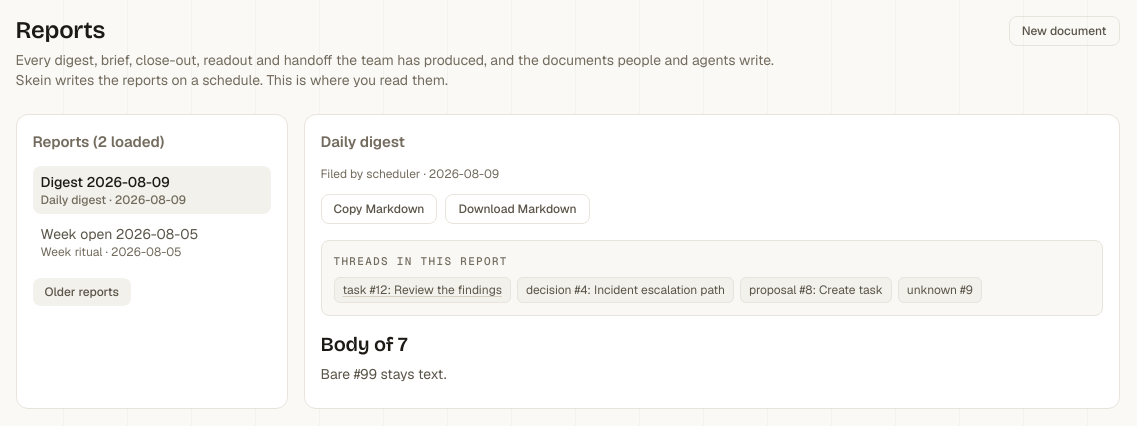
Test case: the Reports page › appends older reports without changing the open report or URL
This screenshot has width=1137, height=426.
Expected: the text "Body of 7" is shown, [320,332,408,356]
Click the button "Older reports": (82, 292) [32,278,131,306]
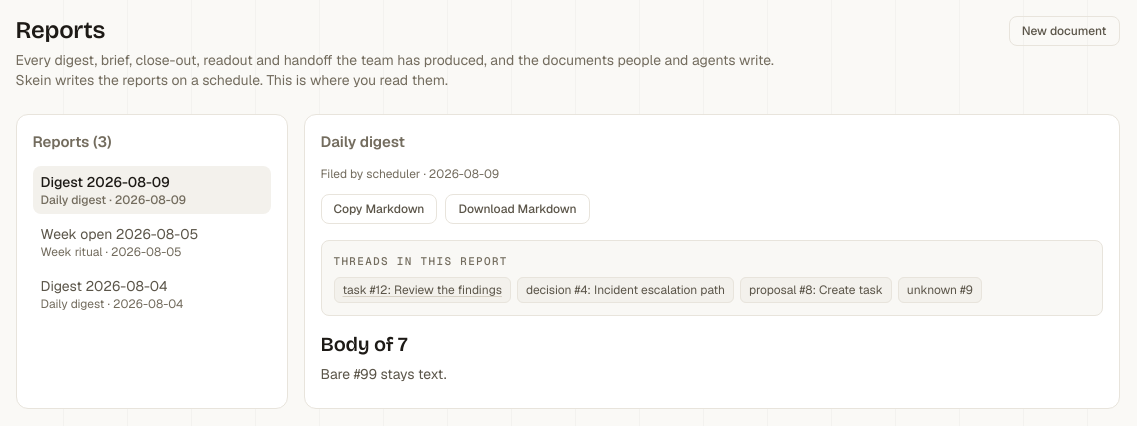
Expected: the text "Body of 7" is shown, [320,332,408,356]
Expected: the button "Digest 2026-08-04" is shown, [32,270,270,318]
Expected: the button "Older reports" is gone
